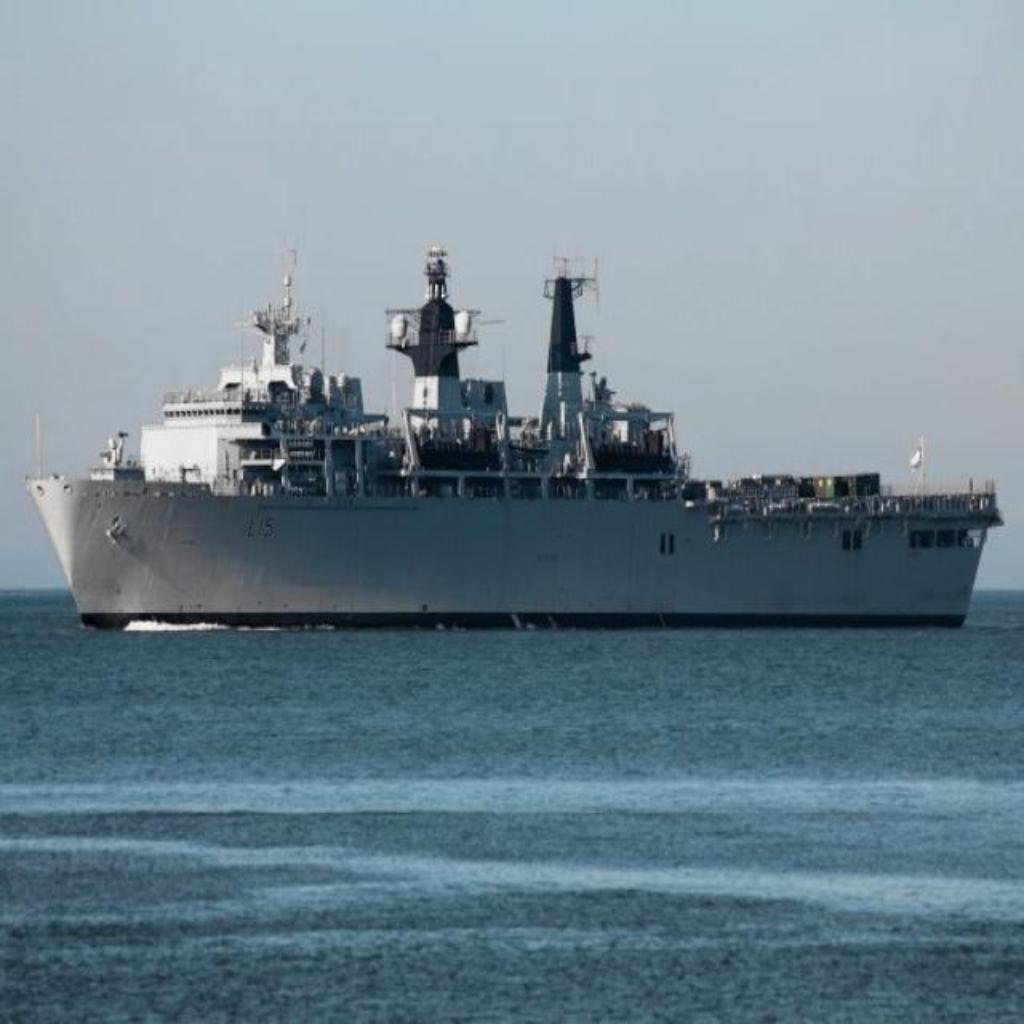Warship: (17, 222, 1005, 642)
